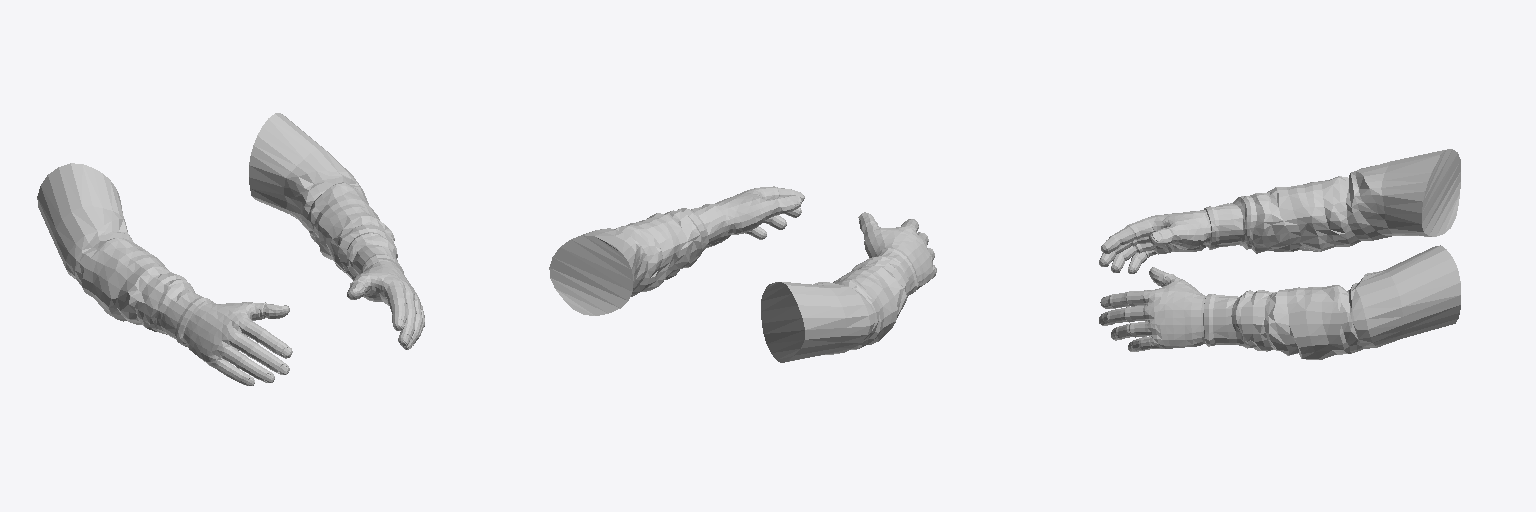
The model's file is arms.obj.
3 renders of one model, left to right at view 1: azimuth 30°, elevation 25°; view 2: azimuth 150°, elevation 25°; view 3: azimuth 270°, elevation 25°, orthographic.
Parts seen in each view (by area): view 1: Arm01_Mesh; view 2: Arm01_Mesh; view 3: Arm01_Mesh.
Part boxes in pixels (x1,y1,x2,y2): Arm01_Mesh: (37,113,424,385); Arm01_Mesh: (549,186,936,362); Arm01_Mesh: (1099,149,1460,359).
Bounding box in the file's own units: 0.56 × 0.2073 × 0.6018.